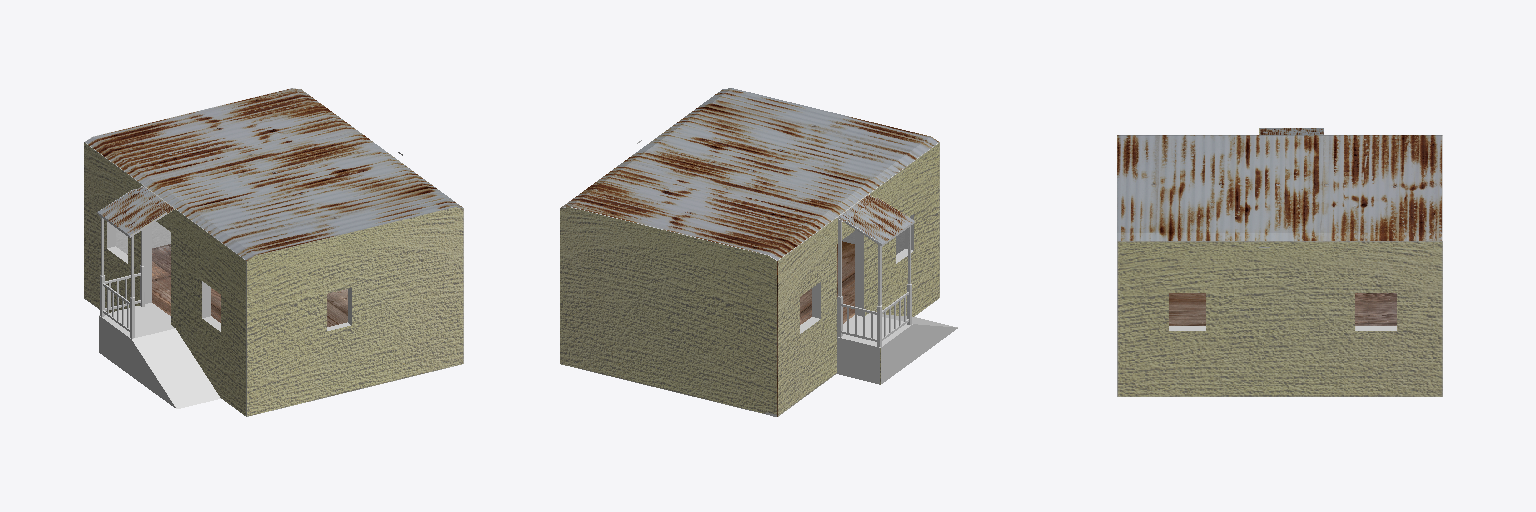
3 views of the same model, side by side, from view 1: azimuth 30°, elevation 25°; view 2: azimuth 150°, elevation 25°; view 3: azimuth 270°, elevation 25° (orthographic).
Visible parts, largest first — view 1: house; view 2: house; view 3: house.
Part boxes in pixels (x1,y1,x2,y2): house: (84,88,463,416); house: (560,88,957,416); house: (1117,128,1442,396).
Bounding box in the file's own units: 348 × 194 × 359.
Materials: 1 (1 with a texture image).